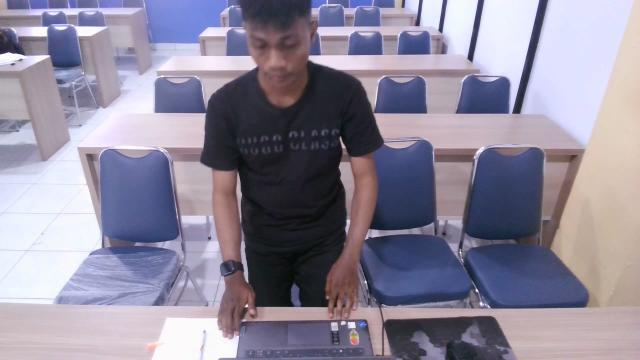Empty_Desk: (196, 0, 414, 360)
